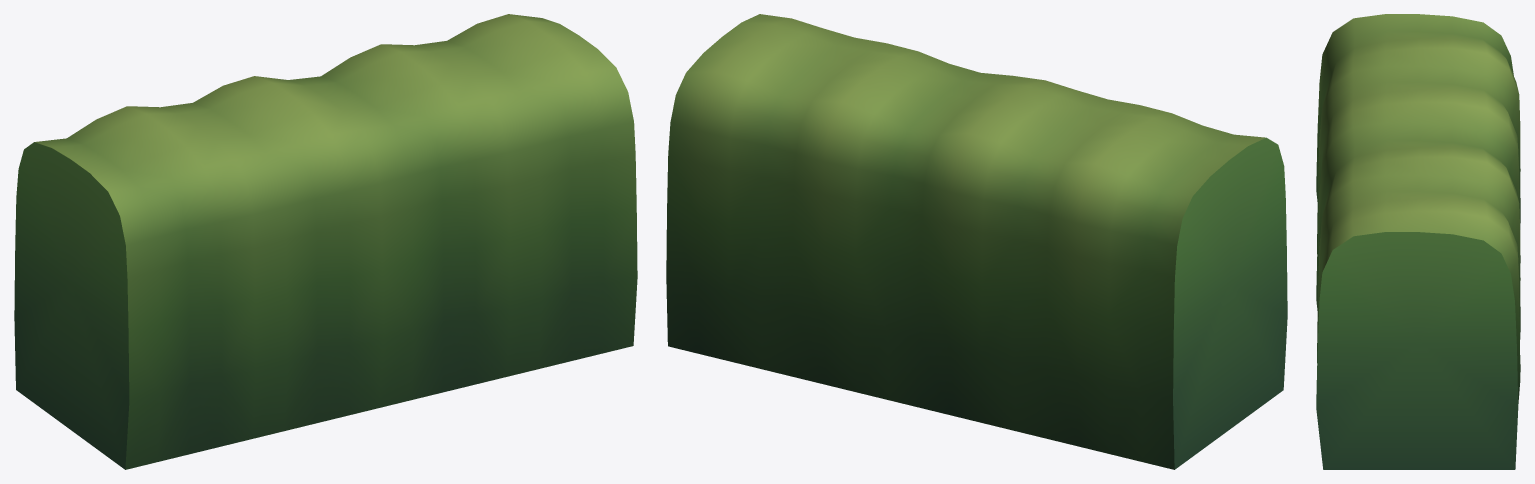
The model's file is HedgeBlock2.fbx.
3 renders of one model, left to right at view 1: azimuth 30°, elevation 25°; view 2: azimuth 150°, elevation 25°; view 3: azimuth 270°, elevation 25°, orthographic. The views are drawn at different scales.
Visible parts, largest first — view 1: HedgeBlock2; view 2: HedgeBlock2; view 3: HedgeBlock2.
Boxes of the visible parts, x1,y1,x2,y2 form: HedgeBlock2: (14,14,637,469); HedgeBlock2: (666,14,1287,469); HedgeBlock2: (1316,14,1520,469).
Bounding box in the file's own units: 2 × 1.05 × 0.7934.
